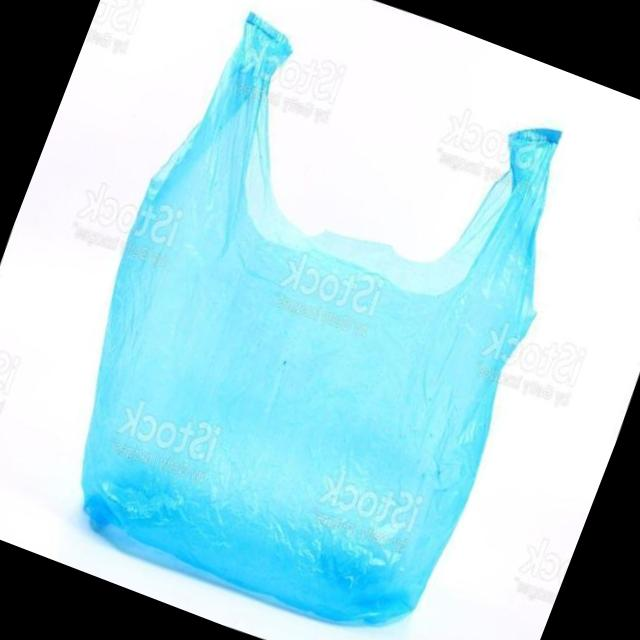KantongPlastik: (19, 0, 608, 640)
